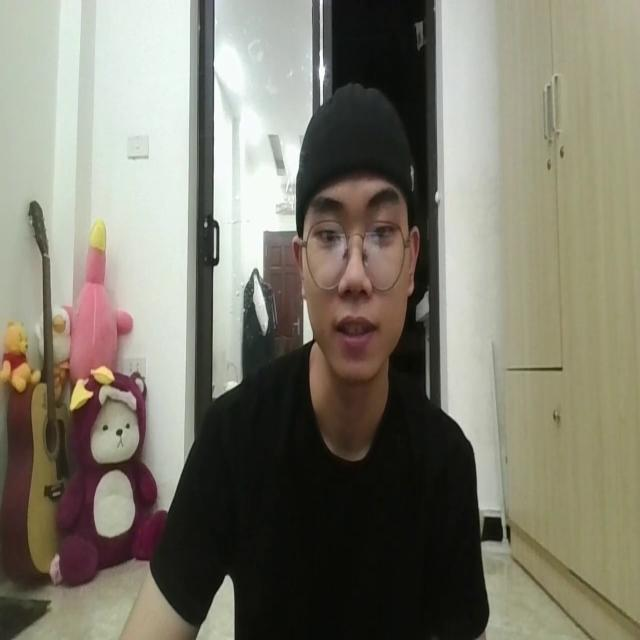student: (143, 73, 476, 640)
